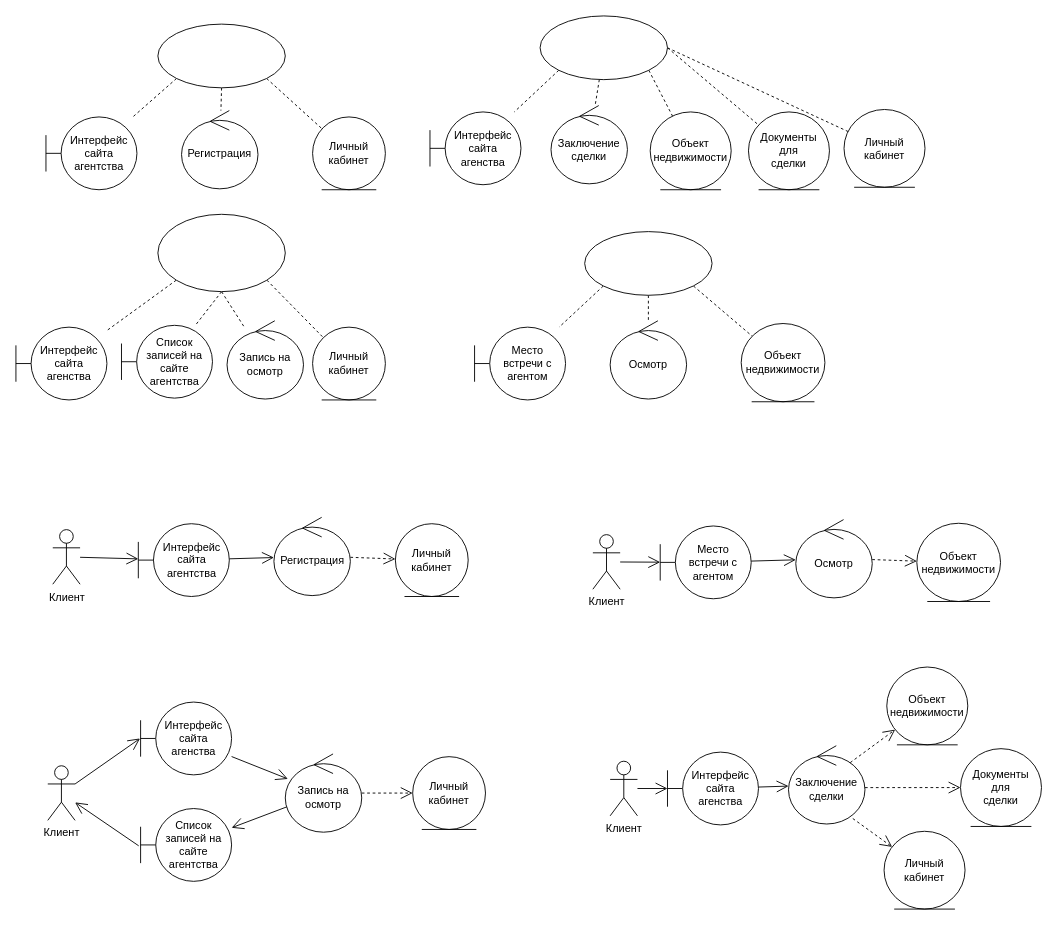
The diagram is 1057 pixels wide and 925 high, and some of its shapes have lost their labels. Each missing label, with the centre of its shape:
Заключить сделку: point 603,47
Записаться на осмотр объекта недвижимости: point 221,252
Зарегистрироваться в системе: point 221,55
Провести осмотр недвижимости: point 648,263
